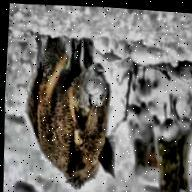boar: (1, 19, 159, 192)
